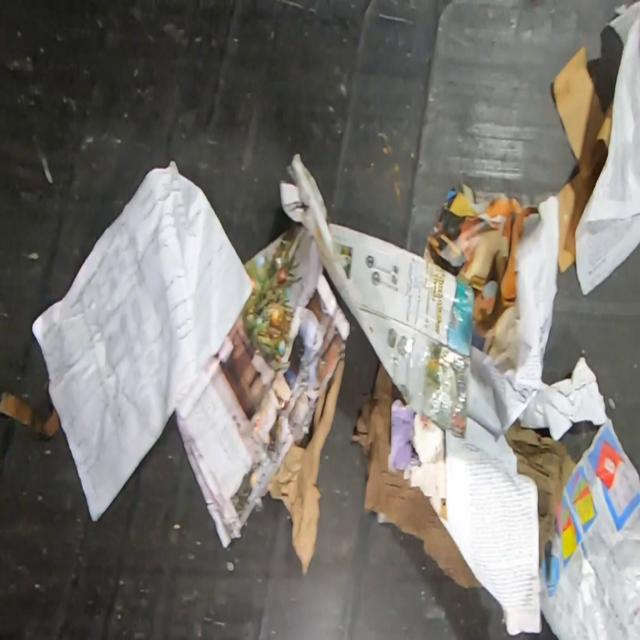cardboard: (278, 154, 473, 441), (350, 361, 484, 589), (553, 44, 613, 275), (503, 416, 576, 569)
